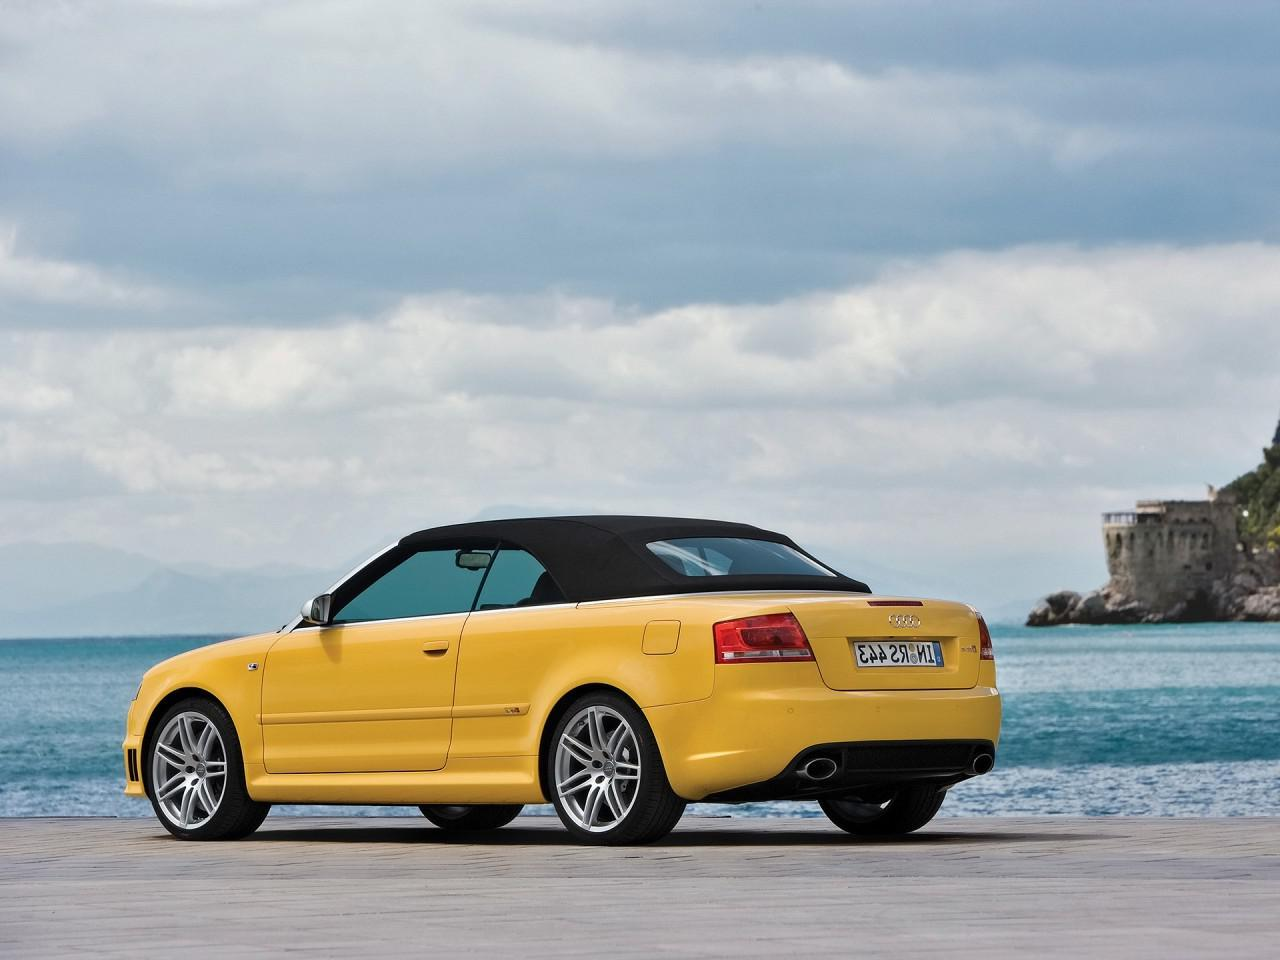Car: (111, 484, 1043, 894)
